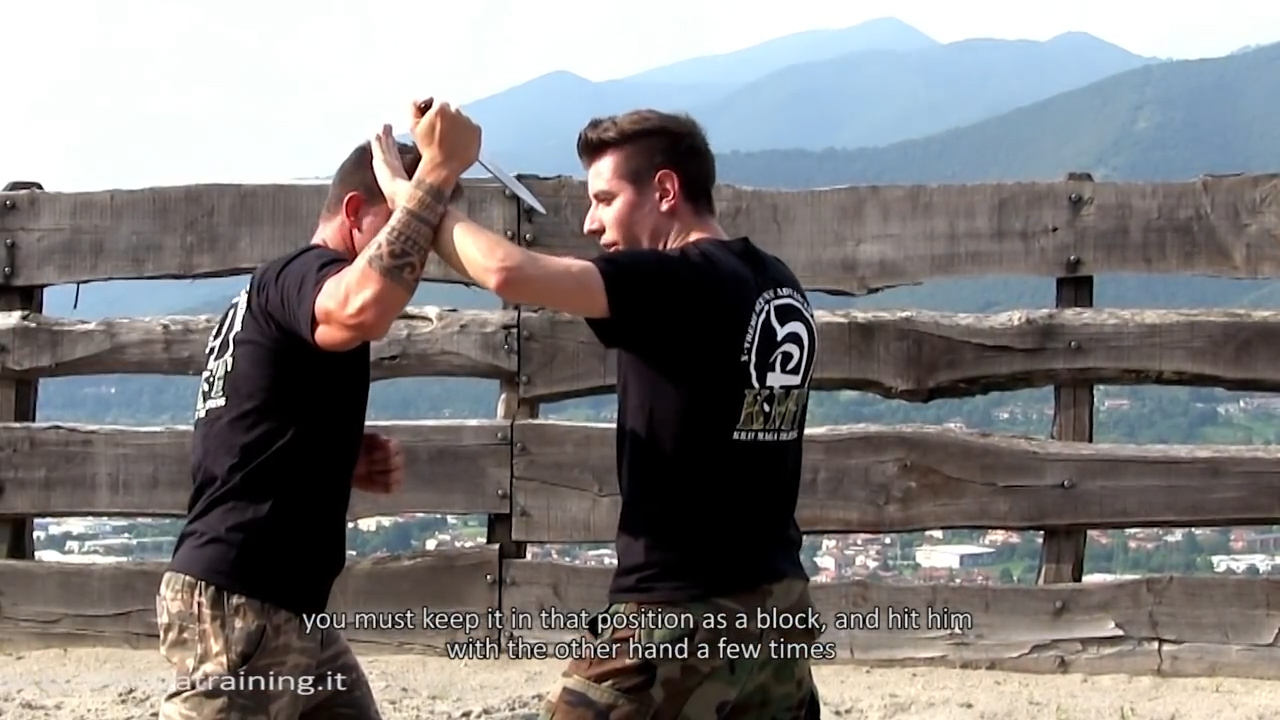knife: (408, 91, 554, 223)
